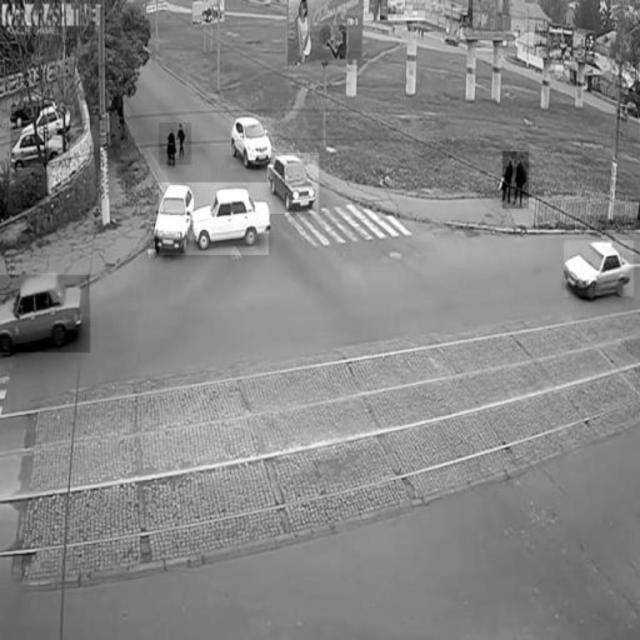accident: (159, 183, 269, 255)
person: (503, 152, 529, 209), (159, 122, 191, 166)
vehicle: (0, 275, 90, 353), (565, 240, 635, 296), (268, 153, 319, 214), (231, 118, 276, 169), (10, 132, 70, 168)
